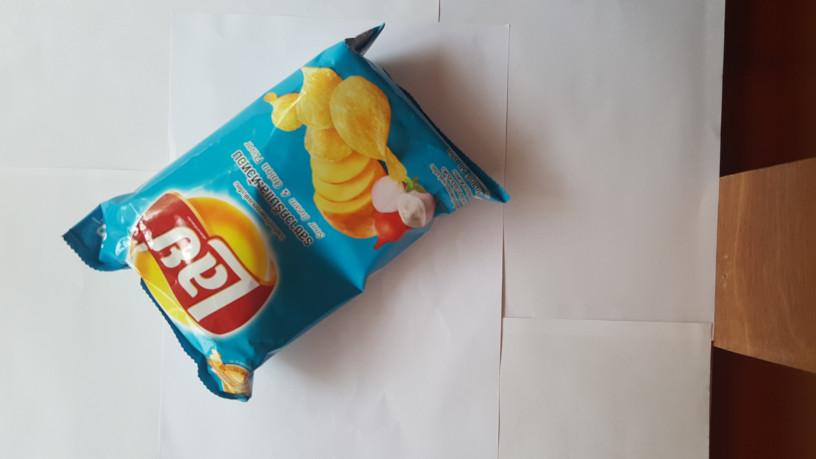lays-onion: (71, 21, 497, 416)
